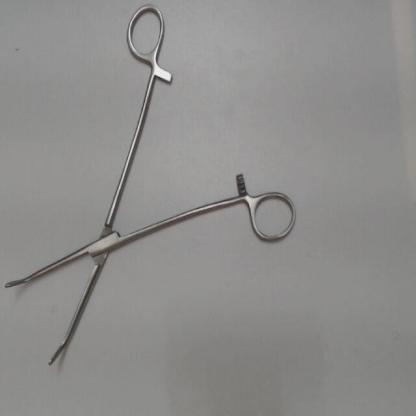Lahey Forceps: (1, 3, 303, 372)
